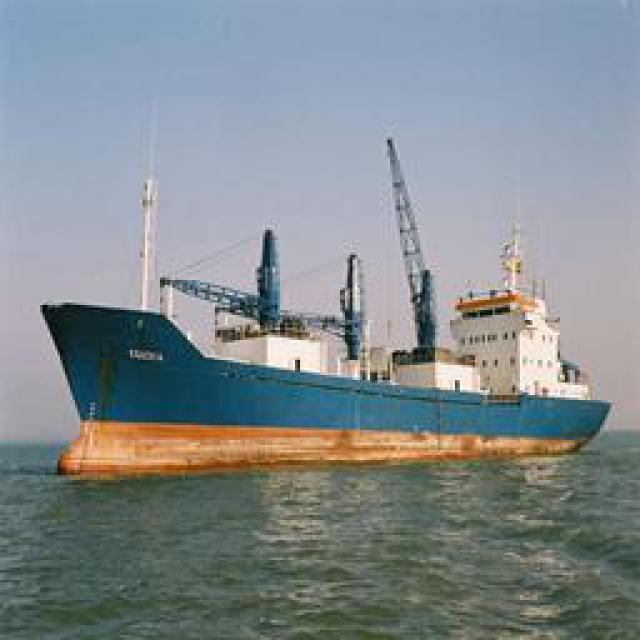Ship: (49, 262, 609, 470)
